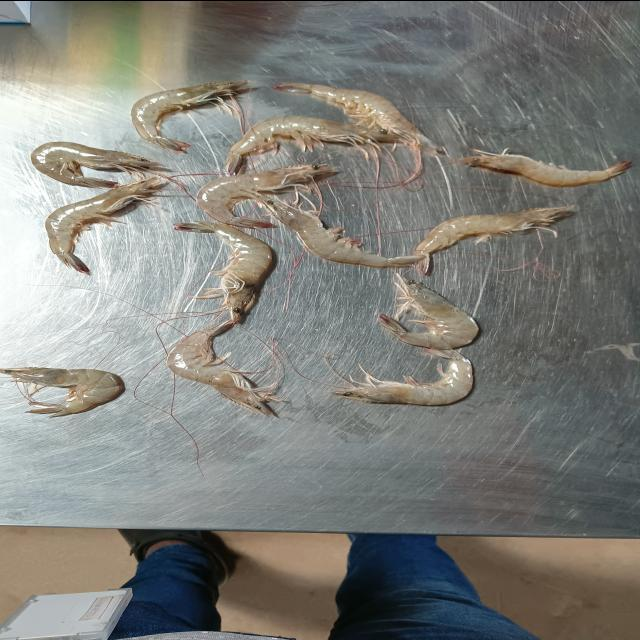shrimp: (272, 81, 443, 155), (257, 195, 425, 268), (44, 176, 168, 274), (166, 320, 281, 416), (414, 205, 573, 274), (226, 115, 405, 174), (175, 220, 272, 321), (131, 80, 257, 152), (197, 164, 336, 228), (332, 348, 474, 405), (379, 272, 478, 349), (458, 148, 631, 186), (31, 141, 170, 188), (0, 366, 124, 416)
